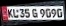character: (7, 8, 14, 18), (12, 8, 19, 18), (31, 8, 38, 18), (56, 8, 63, 18), (19, 8, 25, 18), (24, 8, 30, 18), (39, 8, 45, 18), (45, 8, 51, 17), (51, 8, 56, 18)
